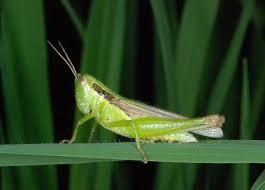Insects: (45, 31, 228, 166)
